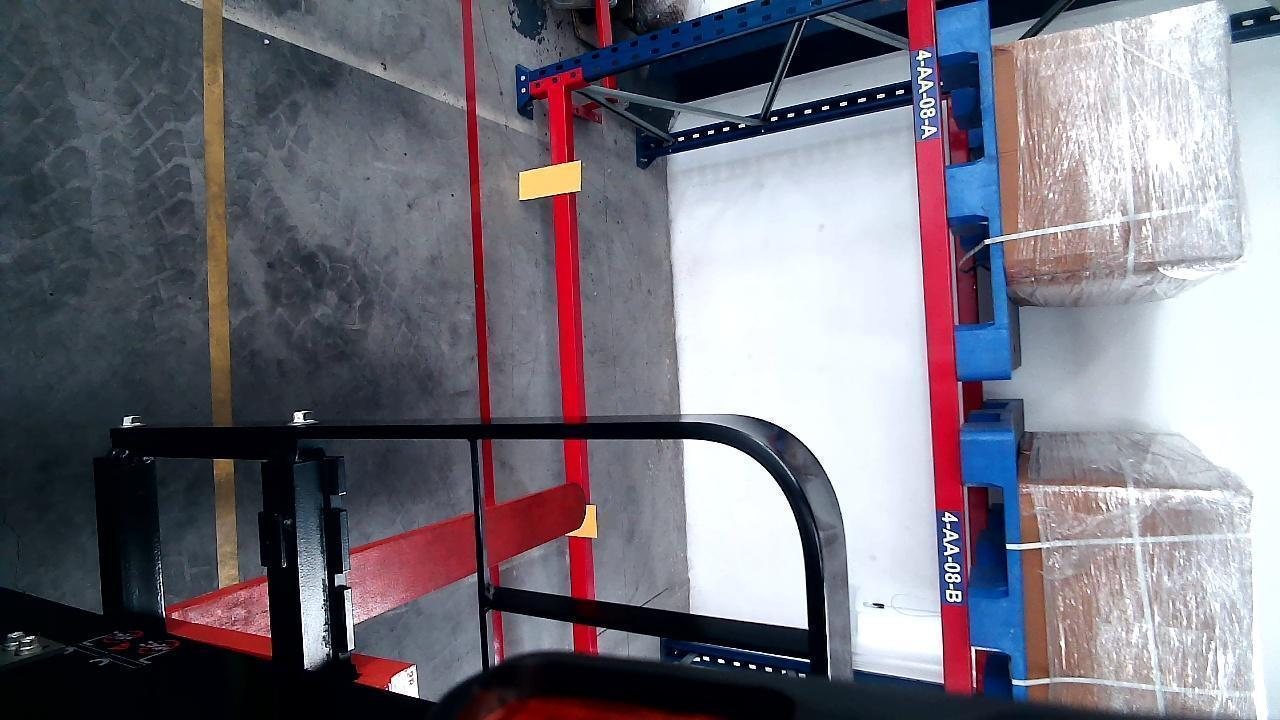red_line: (462, 0, 507, 659)
yellow_line: (205, 1, 240, 582)
